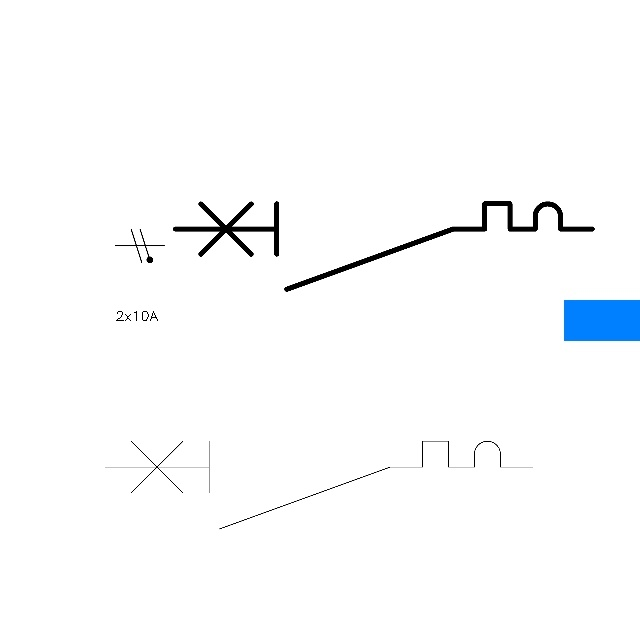interruptor_termomagnetico: (94, 430, 544, 540), (164, 193, 602, 300)
